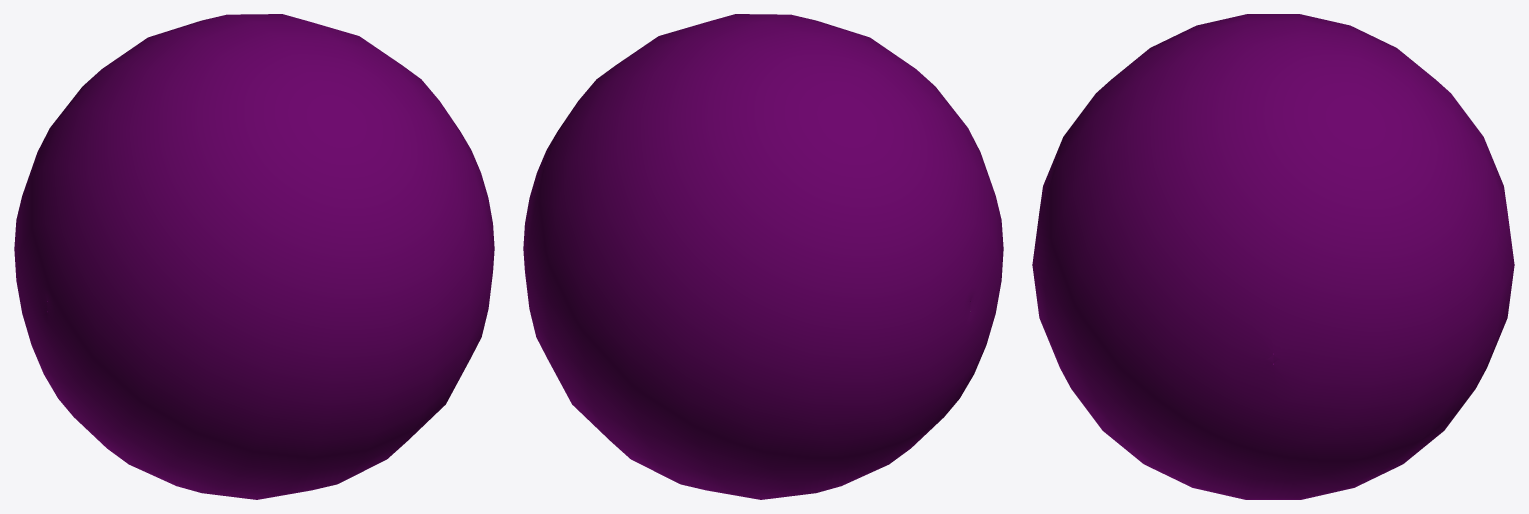
File: ibangsagot.fbx
3 views of the same model, side by side, from view 1: azimuth 30°, elevation 25°; view 2: azimuth 150°, elevation 25°; view 3: azimuth 270°, elevation 25° (orthographic).
Visible parts, largest first — view 1: Model; view 2: Model; view 3: Model.
Part boxes in pixels (x1,y1,x2,y2): Model: (14,14,494,499); Model: (523,14,1003,499); Model: (1032,14,1514,499).
Size of the model in its own units: 9.72 by 9.81 by 9.73.
